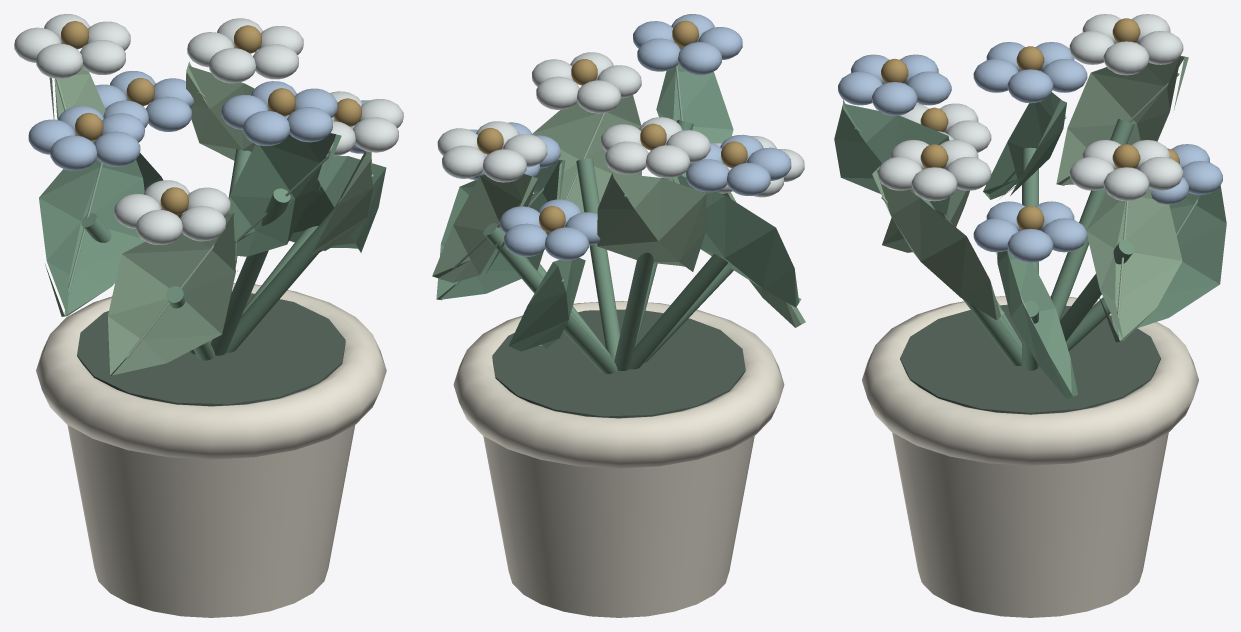
File: flowers.glb
3 views of the same model, side by side, from view 1: azimuth 30°, elevation 25°; view 2: azimuth 150°, elevation 25°; view 3: azimuth 270°, elevation 25° (orthographic). The views are drawn at different scales.
Parts seen in each view (by area): view 1: _MeshInstance3D_944, _MeshInstance3D_945, _MeshInstance3D_946, _MeshInstance3D_975, _MeshInstance3D_984, _MeshInstance3D_966, _MeshInstance3D_1011, _MeshInstance3D_948, _MeshInstance3D_957, _MeshInstance3D_956, _MeshInstance3D_965, _MeshInstance3D_993 (+36 smaller); view 2: _MeshInstance3D_944, _MeshInstance3D_945, _MeshInstance3D_946, _MeshInstance3D_993, _MeshInstance3D_984, _MeshInstance3D_1011, _MeshInstance3D_957, _MeshInstance3D_1002, _MeshInstance3D_966, _MeshInstance3D_948, _MeshInstance3D_956, _MeshInstance3D_983 (+34 smaller); view 3: _MeshInstance3D_944, _MeshInstance3D_945, _MeshInstance3D_946, _MeshInstance3D_1011, _MeshInstance3D_993, _MeshInstance3D_957, _MeshInstance3D_1002, _MeshInstance3D_948, _MeshInstance3D_966, _MeshInstance3D_984, _MeshInstance3D_992, _MeshInstance3D_1010 (+46 smaller).
Part boxes in pixels (<box>): _MeshInstance3D_944: <box>67,425,355,617</box>; _MeshInstance3D_945: <box>36,283,386,459</box>; _MeshInstance3D_946: <box>77,293,345,406</box>; _MeshInstance3D_975: <box>108,213,237,375</box>; _MeshInstance3D_984: <box>39,137,145,316</box>; _MeshInstance3D_966: <box>228,133,341,256</box>; _MeshInstance3D_1011: <box>186,61,255,160</box>; _MeshInstance3D_948: <box>289,156,386,252</box>; _MeshInstance3D_957: <box>312,151,372,255</box>; _MeshInstance3D_956: <box>226,202,339,352</box>; _MeshInstance3D_965: <box>210,188,290,355</box>; _MeshInstance3D_993: <box>49,67,105,141</box>; _MeshInstance3D_944: <box>483,436,754,617</box>; _MeshInstance3D_945: <box>453,301,784,468</box>; _MeshInstance3D_946: <box>492,309,745,418</box>; _MeshInstance3D_993: <box>597,169,706,271</box>; _MeshInstance3D_984: <box>672,175,801,307</box>; _MeshInstance3D_1011: <box>432,174,537,282</box>; _MeshInstance3D_957: <box>532,95,641,212</box>; _MeshInstance3D_1002: <box>508,258,585,351</box>; _MeshInstance3D_966: <box>656,45,733,177</box>; _MeshInstance3D_948: <box>436,159,565,300</box>; _MeshInstance3D_956: <box>576,158,620,360</box>; _MeshInstance3D_983: <box>629,254,727,369</box>; _MeshInstance3D_944: <box>892,432,1168,617</box>; _MeshInstance3D_945: <box>862,296,1198,465</box>; _MeshInstance3D_946: <box>900,304,1160,414</box>; _MeshInstance3D_1011: <box>1086,188,1182,342</box>; _MeshInstance3D_993: <box>1056,55,1188,185</box>; _MeshInstance3D_957: <box>872,166,1004,320</box>; _MeshInstance3D_1002: <box>1111,186,1226,334</box>; _MeshInstance3D_948: <box>996,250,1077,399</box>; _MeshInstance3D_966: <box>834,99,950,214</box>; _MeshInstance3D_984: <box>983,92,1066,199</box>; _MeshInstance3D_992: <box>1050,118,1134,320</box>; _MeshInstance3D_1010: <box>1060,240,1134,341</box>.
Size of the model in its own units: 0.2862 by 0.4106 by 0.2862.
